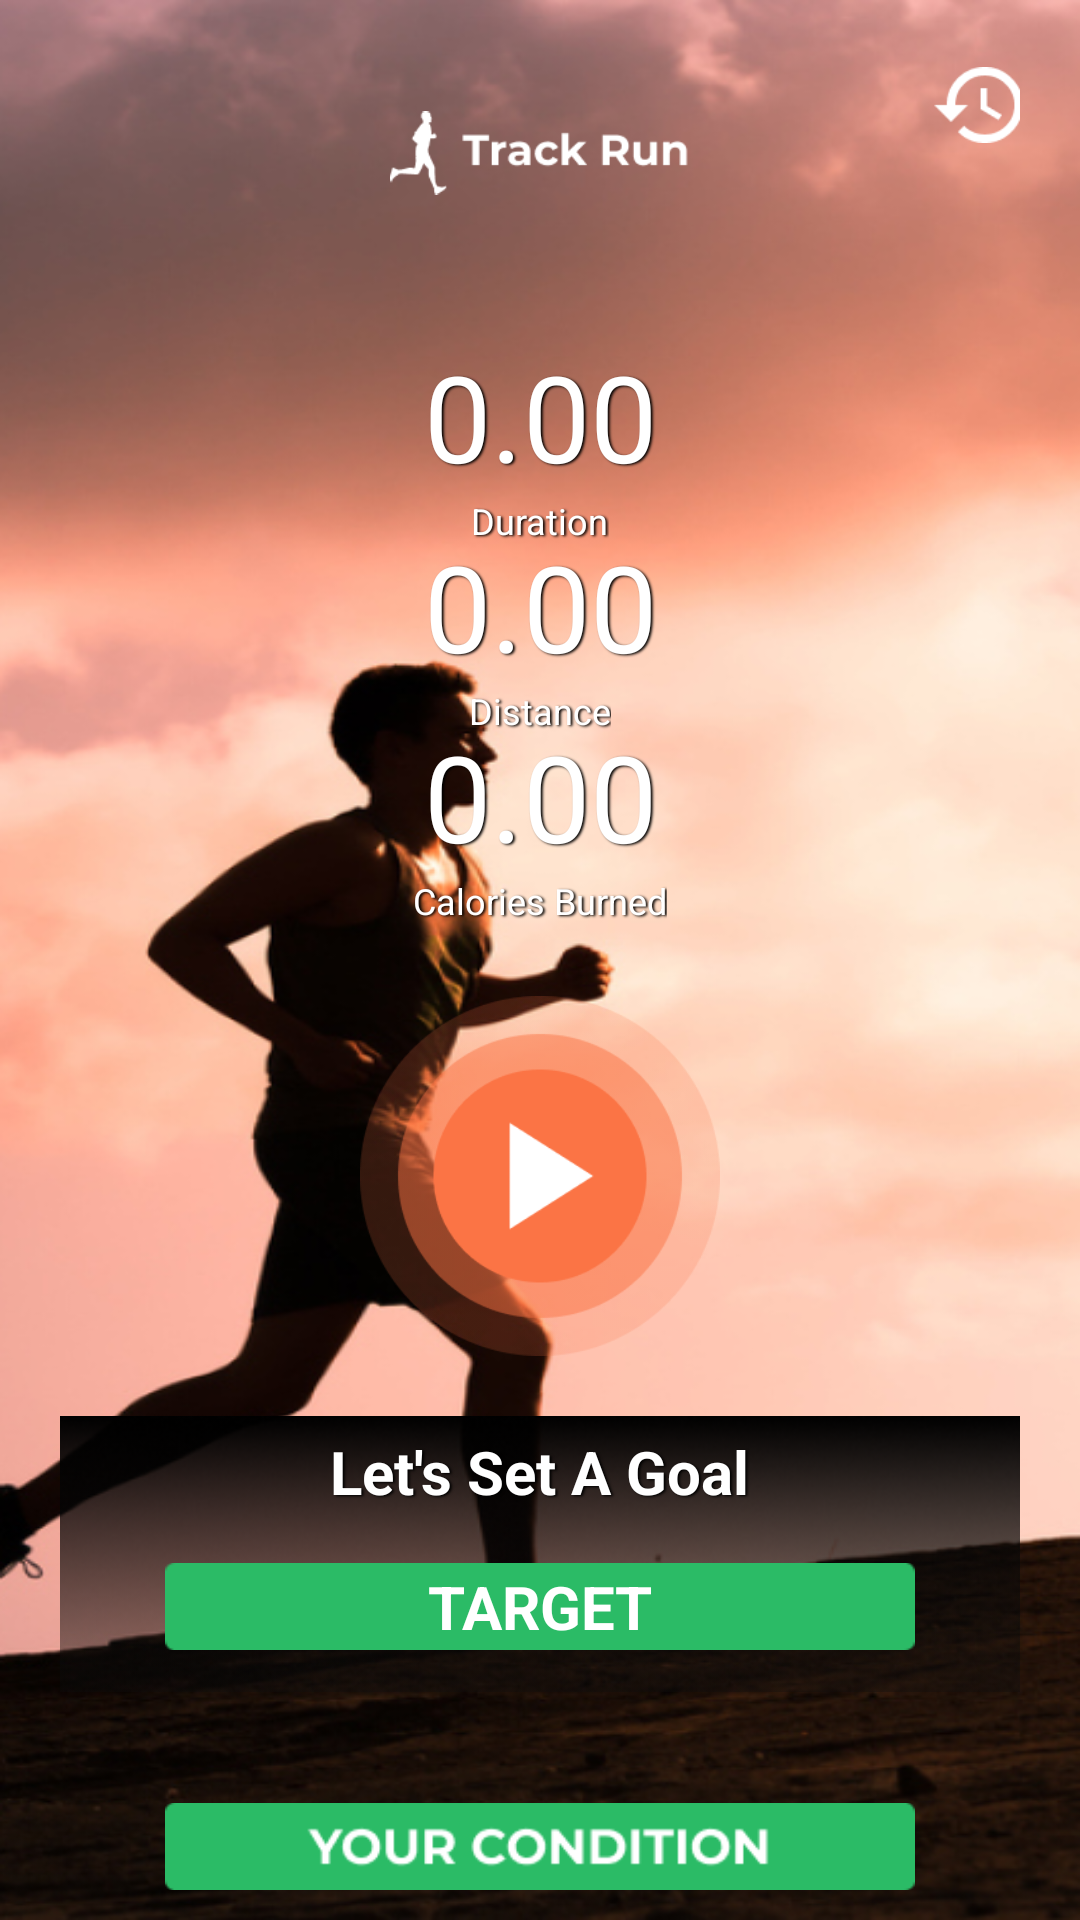

Screen size 1080px x 1920px. Icon name, then its center in pixels as (x=x, y=y):
history: (x=977, y=107)
start: (x=540, y=1176)
